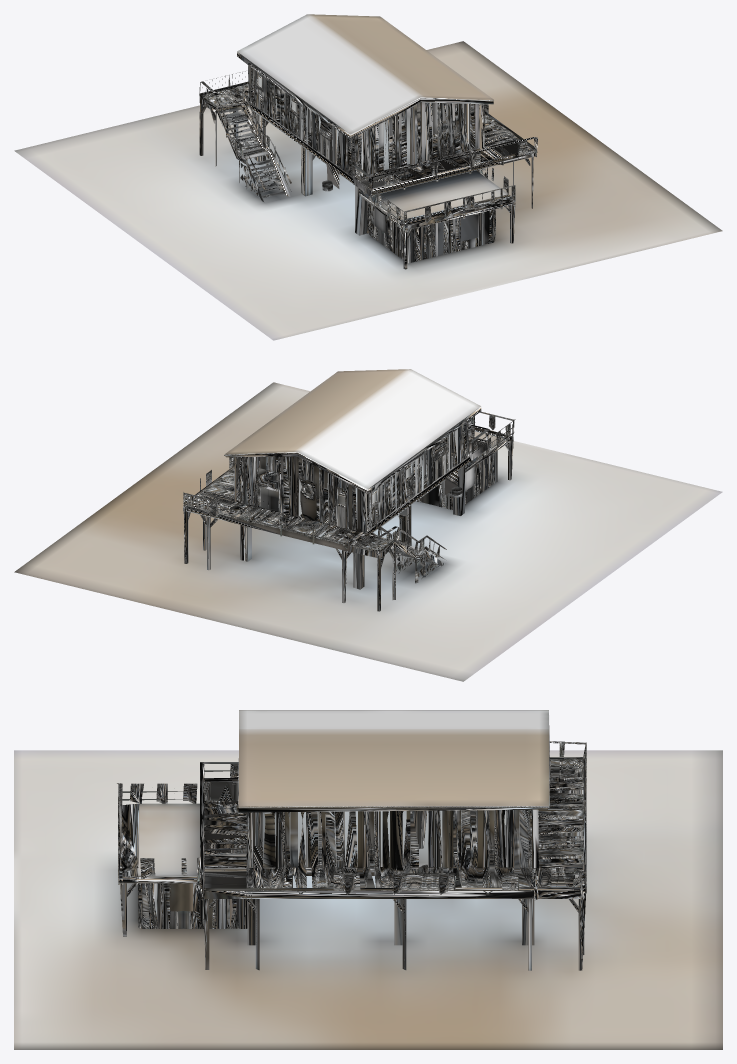
The model's file is jasons_house.glb.
3 views of the same model, one above another, from view 1: azimuth 30°, elevation 25°; view 2: azimuth 150°, elevation 25°; view 3: azimuth 270°, elevation 25° (orthographic). The views are drawn at different scales.
Parts seen in each view (by area): view 1: body; view 2: body; view 3: body.
Part boxes in pixels (bbox=[...]): body: bbox=[14, 14, 722, 340]; body: bbox=[14, 369, 722, 681]; body: bbox=[14, 710, 722, 1049].
Size of the model in its own units: 16 by 4.54 by 16.
Materials: 1 (1 with a texture image).
